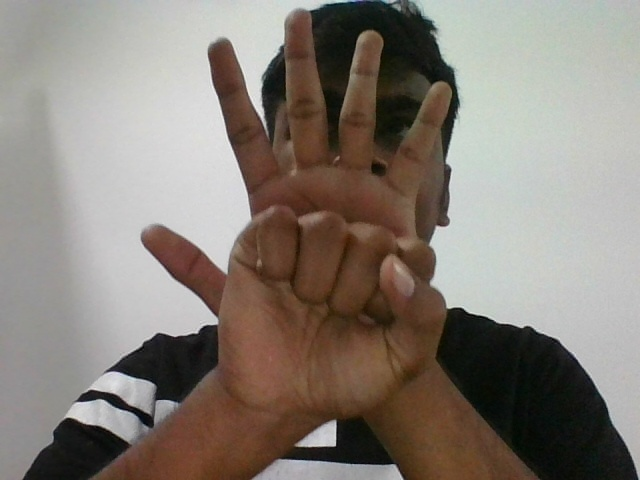coronavirus: (135, 7, 459, 414)
